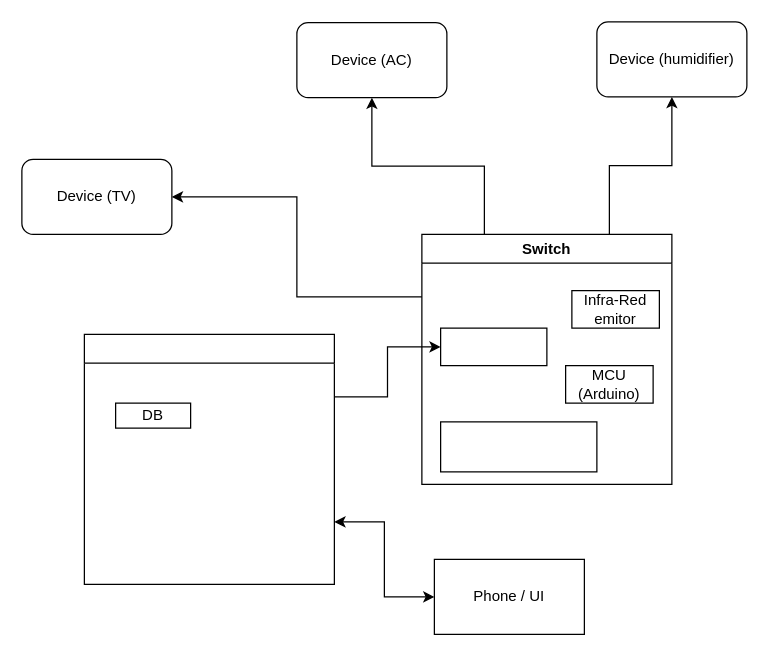
Image size: 769x656. Some labels were removed from this diagram. The box of each missing label's shape, as (x1, y1, x2, y2) in pixels:
Humidity / Temperature sensor: (439, 421, 597, 472)
Server: (83, 333, 334, 584)
Wi-Fi module: (439, 327, 547, 366)
